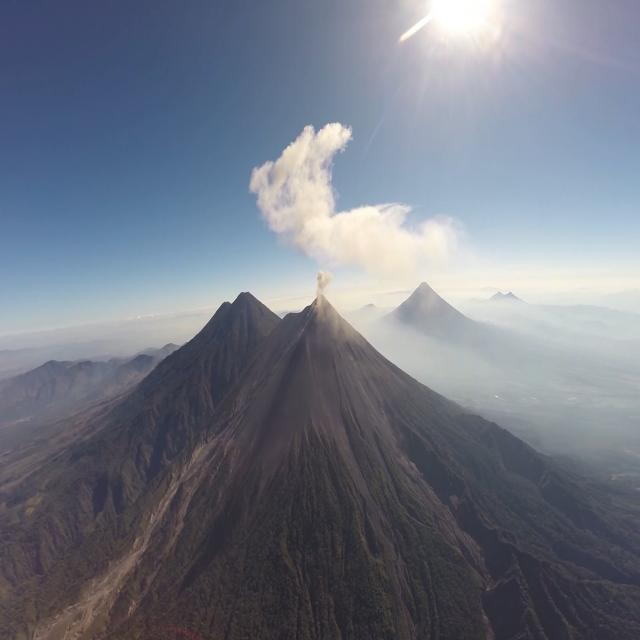Plume: (248, 117, 462, 284), (314, 266, 331, 296)
Summit: (302, 294, 343, 320)
